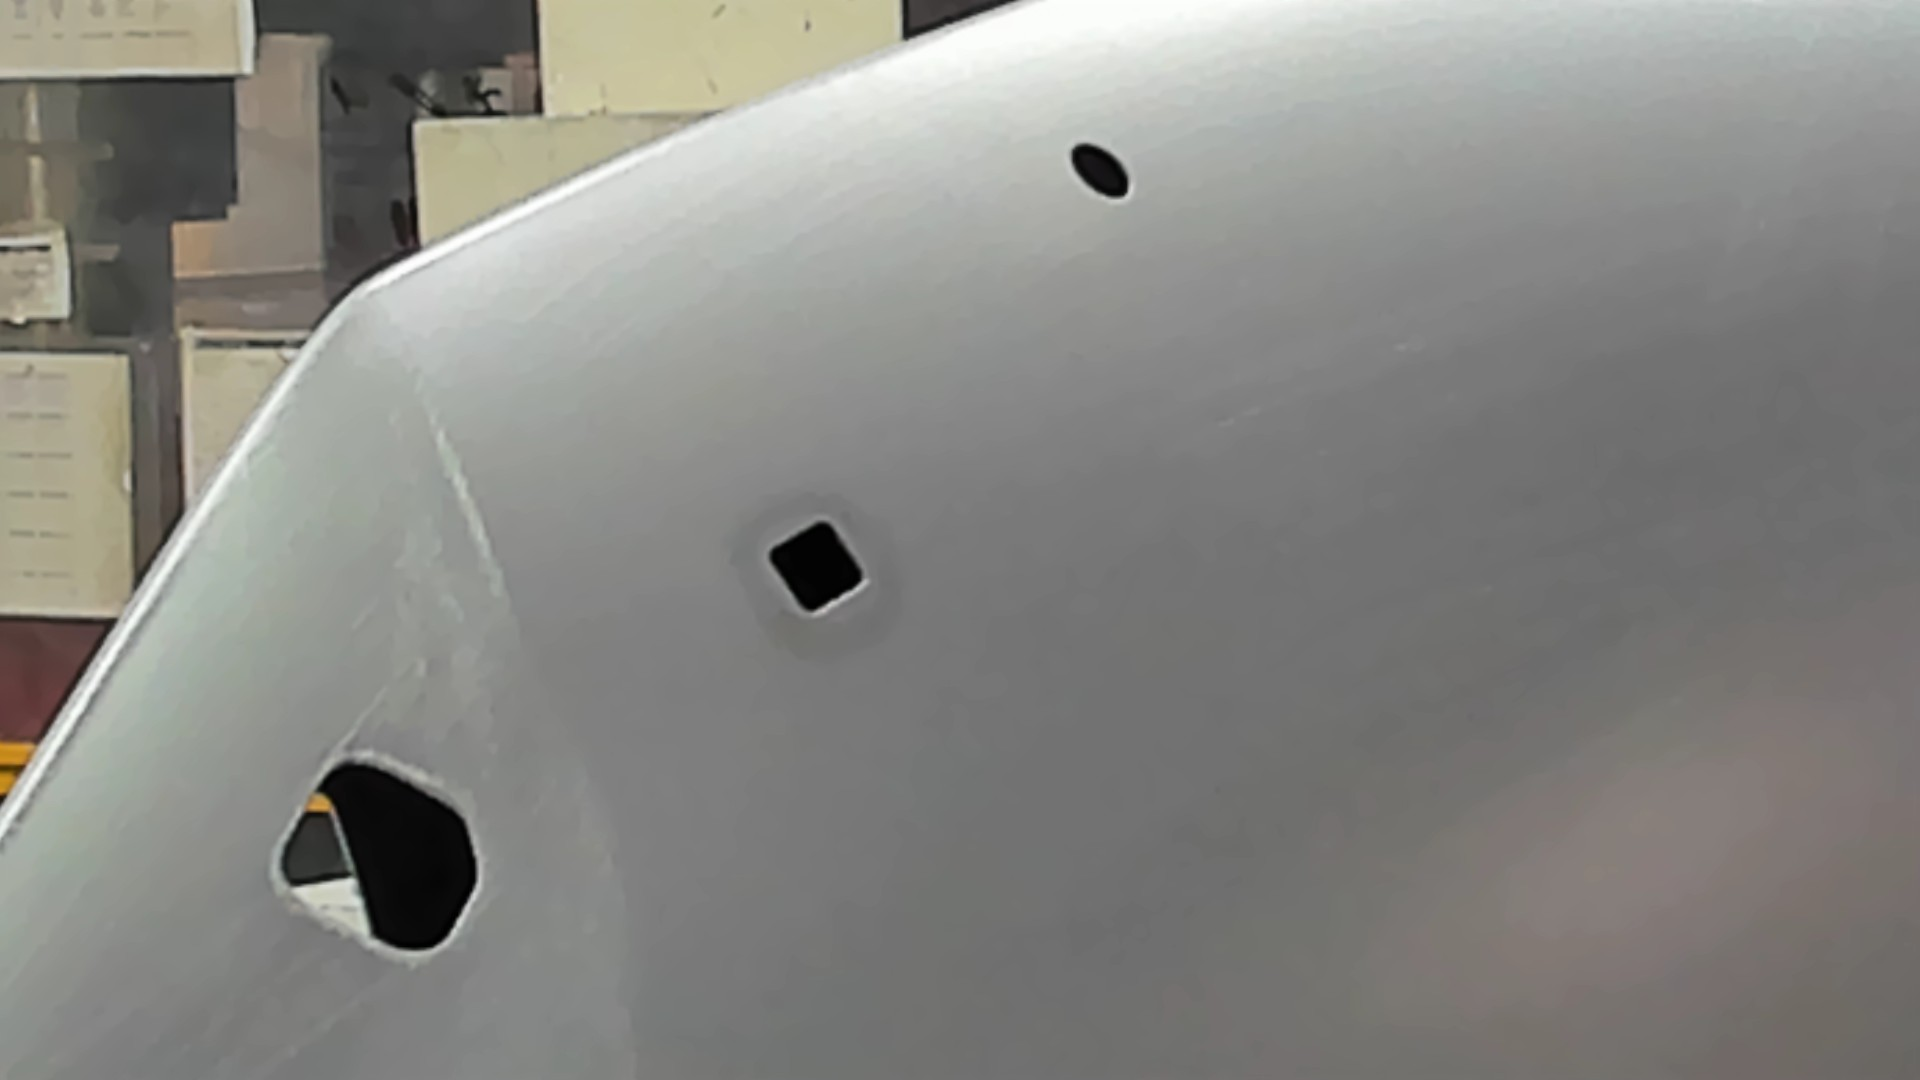chico: (1065, 140, 1134, 204)
grande: (268, 749, 489, 965)
mediano: (764, 513, 870, 618)
